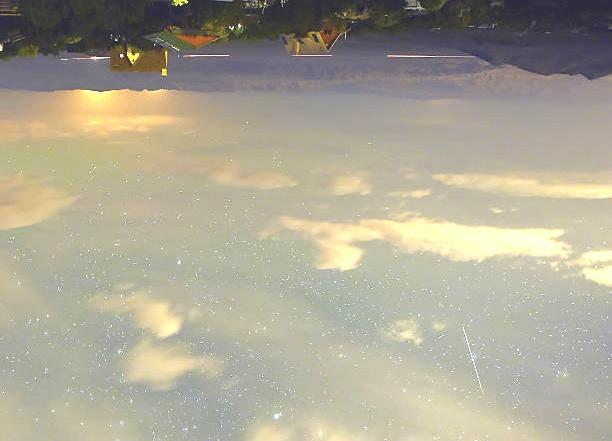meteorite: (455, 318, 486, 406)
